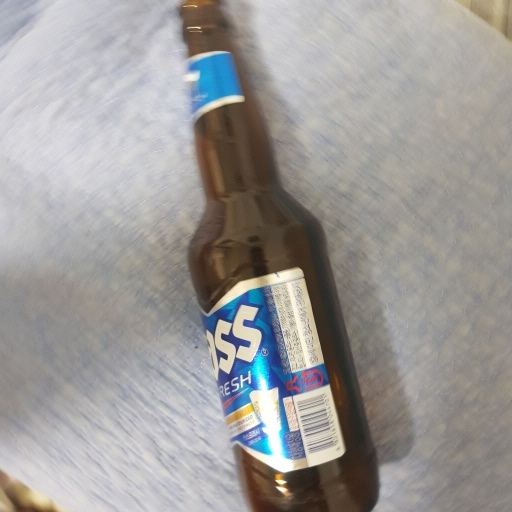Glass_1: (171, 1, 382, 512)
